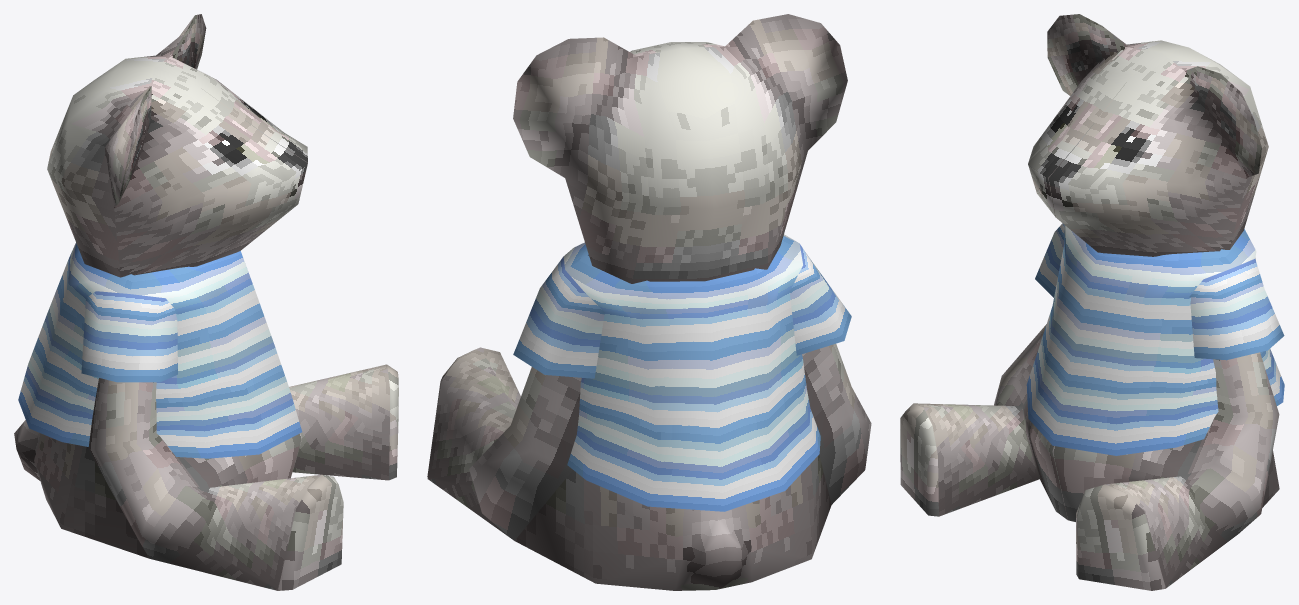
The model's file is rmk_ber_white.dae.
The picture shows the model from 3 angles, left to right: view 1: azimuth 30°, elevation 25°; view 2: azimuth 150°, elevation 25°; view 3: azimuth 270°, elevation 25°; orthographic projection. The views are drawn at different scales.
Visible parts, largest first — view 1: rmk_ber_white; view 2: rmk_ber_white; view 3: rmk_ber_white.
Boxes of the visible parts, x1,y1,x2,y2 form: rmk_ber_white: [14, 14, 398, 590]; rmk_ber_white: [427, 14, 871, 590]; rmk_ber_white: [900, 14, 1284, 590].
Bounding box in the file's own units: 21.64 × 27.44 × 21.64.
Materials: 2 (2 with a texture image).
